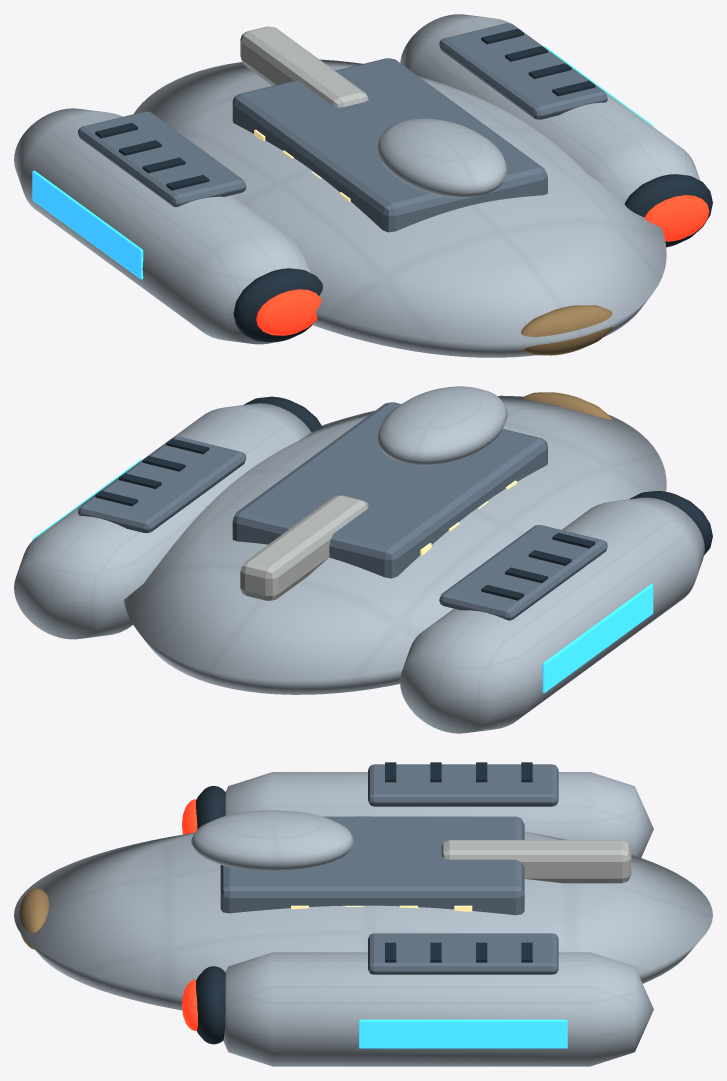
Rendered from Escort_Runtime_LOD0.fbx.
The picture shows the model from 3 angles, top to bottom: view 1: azimuth 30°, elevation 25°; view 2: azimuth 150°, elevation 25°; view 3: azimuth 270°, elevation 25°; orthographic projection. The views are drawn at different scales.
Visible parts, largest first — view 1: Escort_LOD0; view 2: Escort_LOD0; view 3: Escort_LOD0.
Part boxes in pixels (x1,y1,x2,y2): Escort_LOD0: (14,14,712,357); Escort_LOD0: (14,386,712,733); Escort_LOD0: (14,762,712,1066).
Bounding box in the file's own units: 13788 × 3974 × 17000.
1 material, 1 textured.
